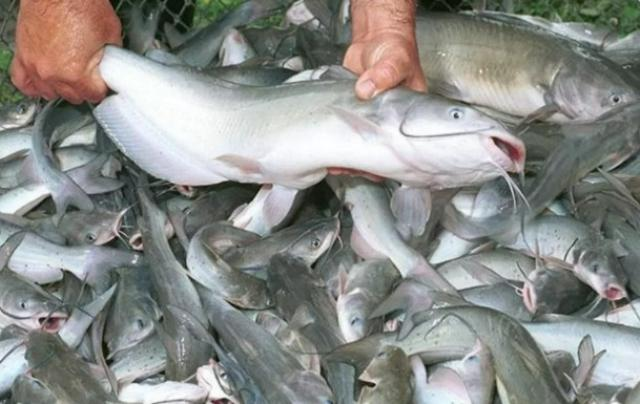Mulut: (461, 114, 545, 190), (317, 195, 359, 260), (29, 302, 76, 346), (104, 203, 140, 245), (514, 274, 544, 322), (594, 278, 634, 310)
Sirip Anal: (92, 80, 234, 202)
Sirip Dada: (309, 89, 389, 156), (384, 172, 438, 246), (498, 92, 566, 146)
Sirip Ekor: (38, 152, 108, 242), (362, 274, 440, 346), (75, 238, 162, 302)
Sirip Perut: (208, 134, 312, 234)
Sirip Punggung: (272, 294, 322, 364)
